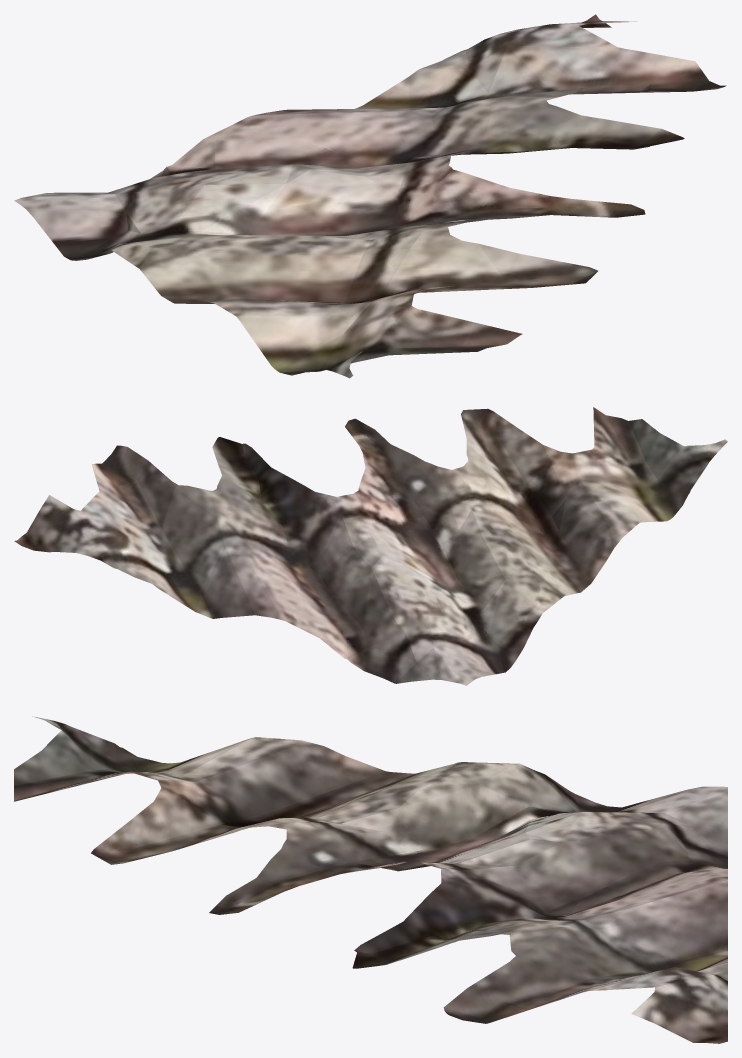
3 views of the same model, one above another, from view 1: azimuth 30°, elevation 25°; view 2: azimuth 150°, elevation 25°; view 3: azimuth 270°, elevation 25° (orthographic). The views are drawn at different scales.
Size of the model in its own units: 0.8373 by 0.1237 by 0.8373.
2 materials, 2 textured.
